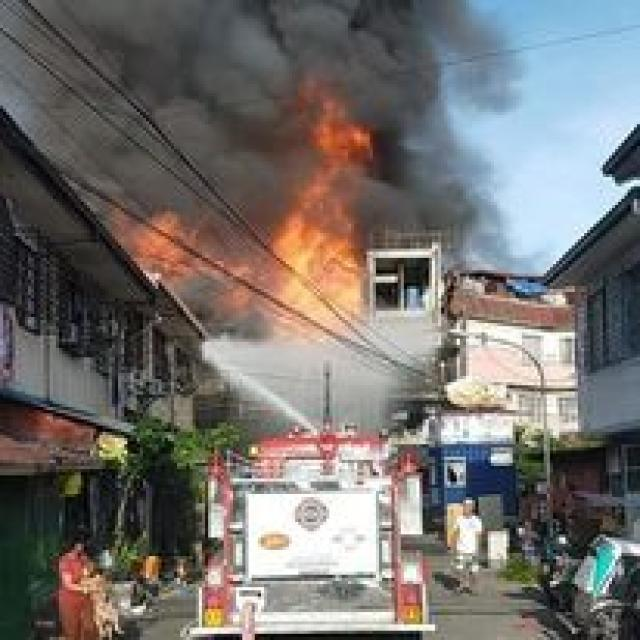Fire: (283, 88, 387, 324), (109, 209, 256, 321)
Smoke: (1, 2, 518, 226)
